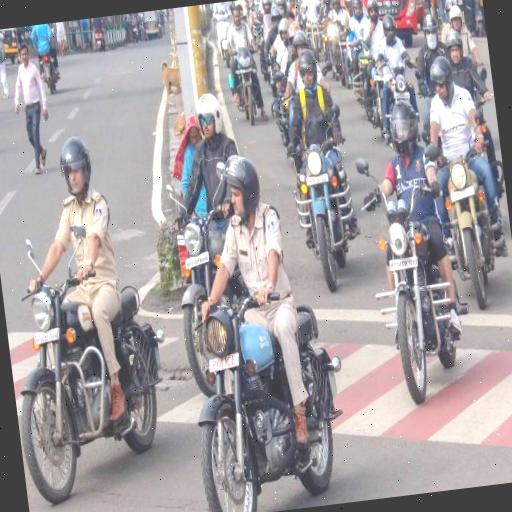helmet: (36, 120, 152, 494), (209, 140, 327, 506), (364, 87, 464, 403), (419, 43, 510, 300), (279, 50, 355, 272), (366, 8, 418, 113)
no helmet: (216, 4, 266, 124)
